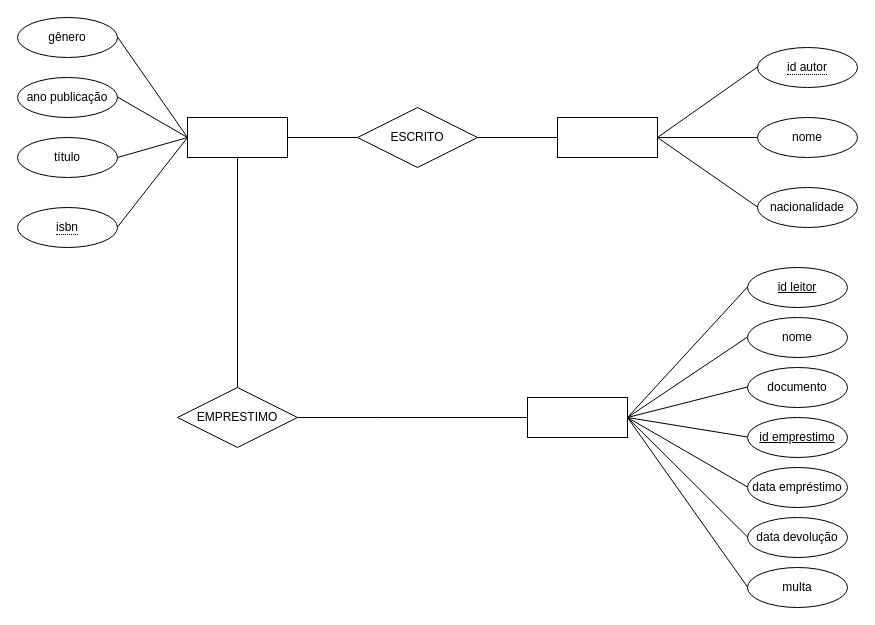
This 875x625 diagram has some shape labels left out. The centre of each missing label's shape, as x and y in pixels:
AUTOR: the point at 607,137
LEITOR: the point at 577,417
LIVRO: the point at 237,137
